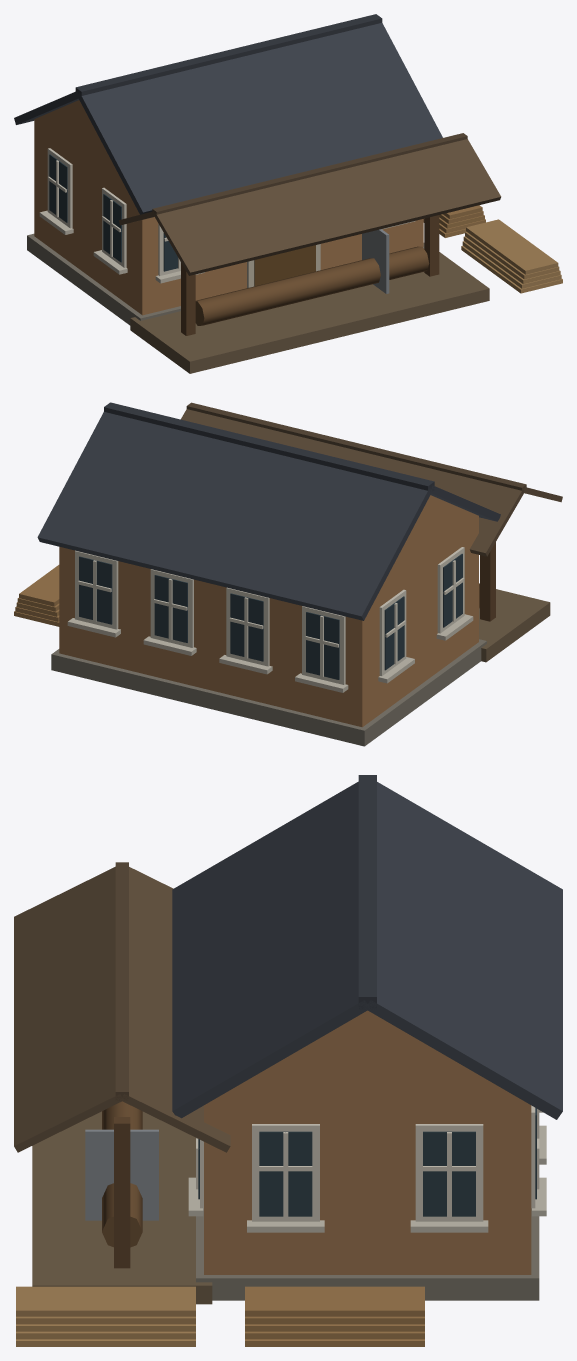
File: procedural_saw@5.glb
3 renders of one model, top to bottom at view 1: azimuth 30°, elevation 25°; view 2: azimuth 150°, elevation 25°; view 3: azimuth 270°, elevation 25°, orthographic. The views are drawn at different scales.
Parts seen in each view (by area): view 1: part_0; view 2: part_0; view 3: part_0.
Part boxes in pixels (bbox=[...]): part_0: bbox=[14, 14, 562, 373]; part_0: bbox=[14, 402, 562, 746]; part_0: bbox=[14, 775, 562, 1346].
Bounding box in the file's own units: 7.97 × 4.15 × 6.71.
